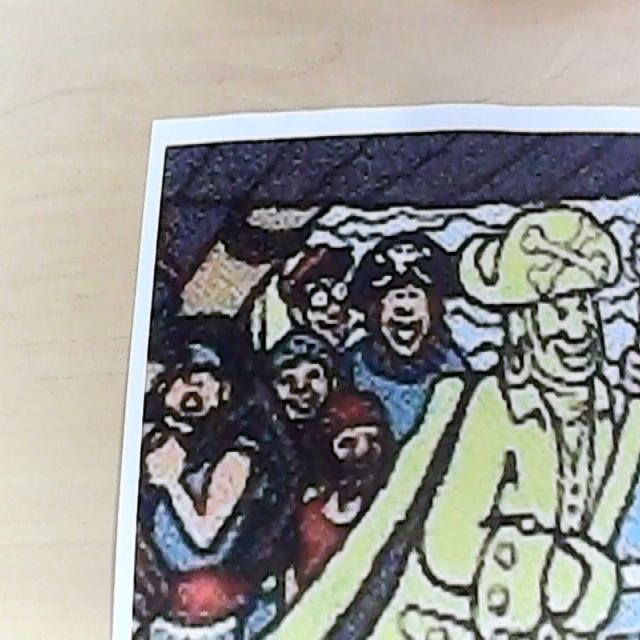waldo: (274, 239, 358, 349)
